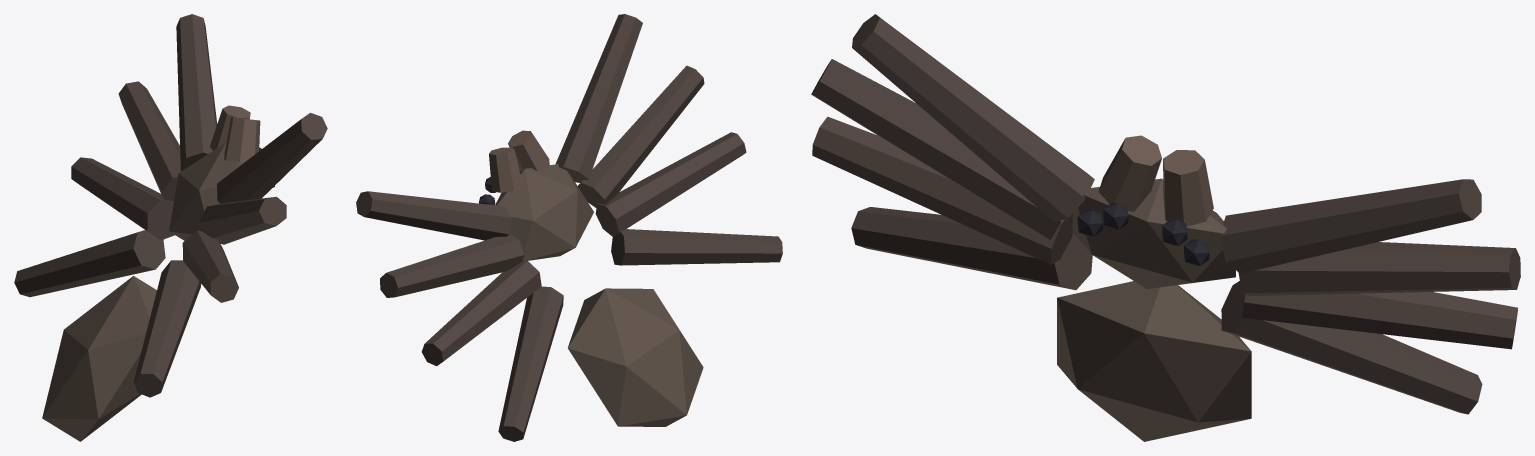
3 renders of one model, left to right at view 1: azimuth 30°, elevation 25°; view 2: azimuth 150°, elevation 25°; view 3: azimuth 270°, elevation 25°, orthographic. The views are drawn at different scales.
Parts seen in each view (by area): view 1: part1, part15, part9, part14, part8, part13, part11, part0, part10, part12, part6, part7; view 2: part1, part0, part8, part14, part10, part12, part15, part9, part11, part13, part7, part6; view 3: part1, part8, part9, part11, part15, part13, part10, part12, part14, part0, part7, part6.
Boxes of the visible parts, x1,y1,x2,y2 form: part1: (42, 276, 156, 441); part15: (14, 229, 165, 297); part9: (176, 14, 217, 171); part14: (133, 260, 201, 397); part8: (217, 112, 327, 203); part13: (71, 157, 174, 240); part11: (118, 81, 181, 201); part0: (169, 143, 244, 240); part10: (199, 196, 286, 244); part12: (182, 230, 238, 302); part6: (224, 117, 260, 162); part7: (210, 105, 250, 150); part1: (568, 288, 703, 426); part0: (495, 164, 593, 260); part8: (555, 14, 642, 182); part14: (611, 229, 782, 265); part10: (577, 65, 704, 208); part12: (595, 132, 746, 236); part15: (498, 286, 563, 441); part9: (356, 191, 511, 240); part11: (380, 234, 524, 297); part13: (421, 260, 541, 366); part7: (489, 147, 521, 192); part6: (508, 130, 549, 171); part1: (1057, 281, 1251, 441); part8: (852, 14, 1094, 222); part9: (1219, 179, 1481, 273); part11: (1238, 242, 1520, 295); part15: (1221, 281, 1482, 414); part13: (1242, 292, 1517, 349); part10: (811, 59, 1062, 240); part12: (812, 116, 1072, 264); part14: (851, 207, 1092, 290); part0: (1072, 178, 1235, 288); part7: (1163, 150, 1213, 226); part6: (1098, 135, 1161, 211).
Size of the model in its own units: 7.09 by 8.92 by 11.02.
